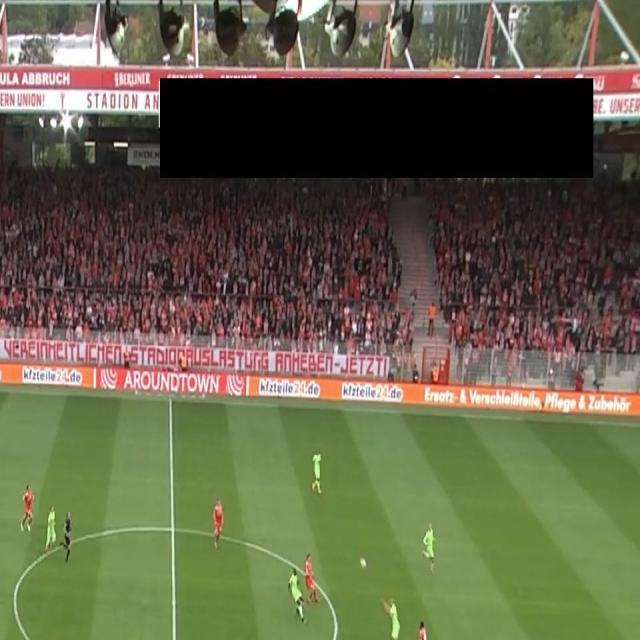ball: (360, 556, 368, 570)
